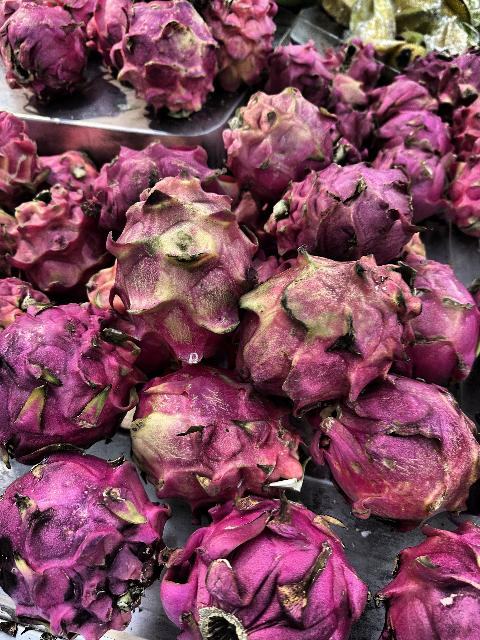buah-naga-belum-matang: (232, 238, 404, 398), (118, 171, 252, 355), (324, 364, 480, 518), (116, 366, 290, 484), (114, 0, 213, 112), (220, 87, 324, 177), (204, 2, 272, 86)
buah-naga-matang: (154, 482, 372, 640), (0, 438, 158, 640), (0, 292, 142, 446), (370, 498, 480, 640), (275, 163, 417, 259), (9, 2, 101, 112), (14, 190, 108, 286), (105, 132, 211, 210), (388, 141, 442, 213), (274, 47, 330, 101), (379, 111, 447, 149), (450, 152, 480, 235), (334, 40, 382, 86), (1, 272, 46, 320), (364, 80, 423, 112), (452, 94, 480, 150)
